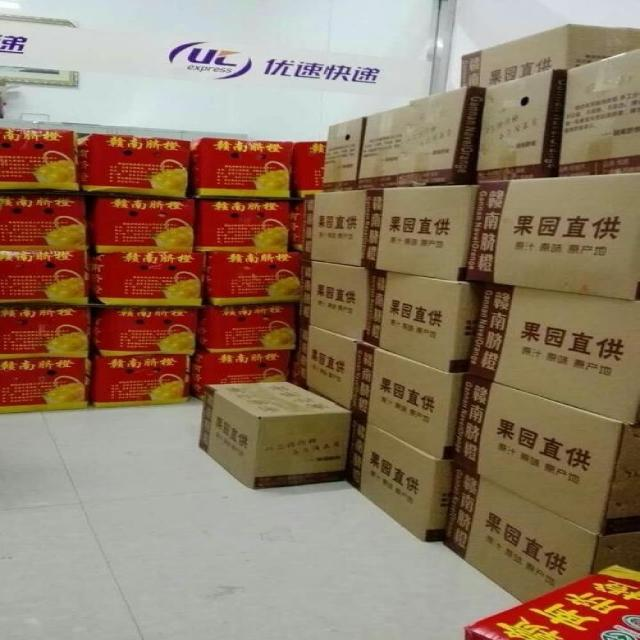box: (454, 375, 639, 535), (442, 466, 639, 602), (466, 284, 639, 424), (465, 173, 639, 300), (197, 381, 355, 489), (463, 565, 640, 640), (346, 417, 453, 541), (352, 341, 463, 459), (366, 270, 486, 372), (461, 24, 639, 88), (364, 186, 479, 280), (476, 69, 566, 184), (557, 50, 639, 176), (397, 86, 485, 187), (81, 134, 192, 198), (90, 252, 206, 306), (193, 138, 293, 199), (288, 322, 357, 410), (88, 196, 195, 252), (297, 260, 369, 342), (91, 355, 193, 408), (93, 307, 200, 356), (205, 252, 301, 306), (0, 127, 79, 192), (0, 358, 93, 413), (1, 193, 88, 250), (197, 199, 289, 252), (197, 303, 296, 352), (192, 350, 292, 398), (301, 191, 365, 266), (0, 251, 88, 304), (0, 306, 88, 359), (358, 105, 411, 189), (323, 117, 366, 193), (294, 142, 326, 197), (291, 199, 306, 252)
